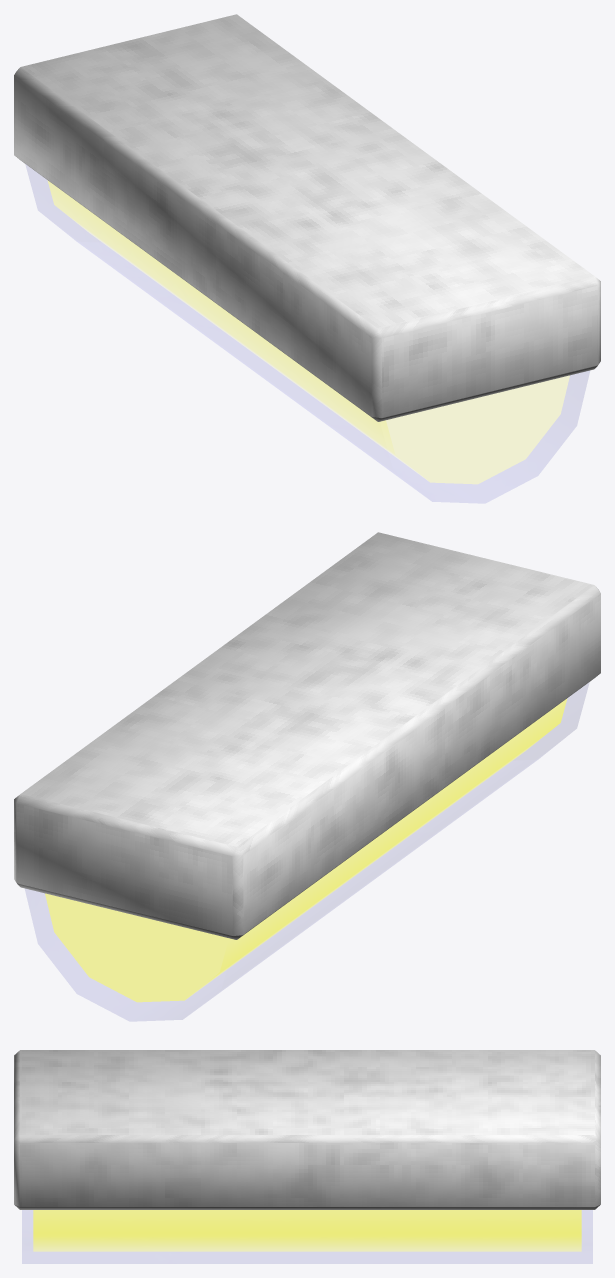
File: light.glb
The picture shows the model from 3 angles, top to bottom: view 1: azimuth 30°, elevation 25°; view 2: azimuth 150°, elevation 25°; view 3: azimuth 270°, elevation 25°; orthographic projection. The views are drawn at different scales.
Visible parts, largest first — view 1: Cylinder.001; view 2: Cylinder.001; view 3: Cylinder.001.
Boxes of the visible parts, x1=… form: Cylinder.001: x1=14, y1=14, x2=600, y2=502; Cylinder.001: x1=14, y1=532, x2=600, y2=1020; Cylinder.001: x1=14, y1=1050, x2=600, y2=1263.
Size of the model in its own units: 0.5046 by 0.4252 by 1.39.
Materials: 5 (4 with a texture image).
